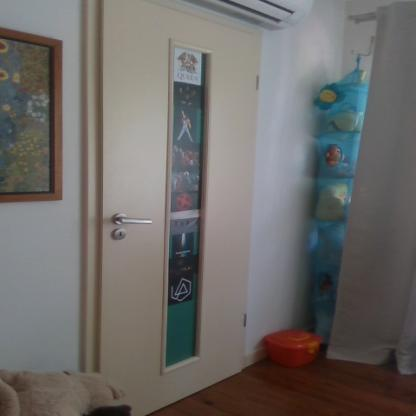closed: (73, 17, 265, 390)
